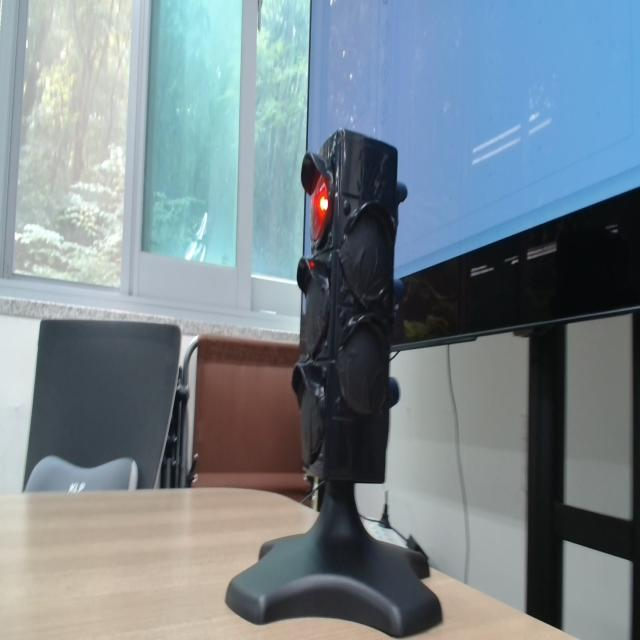red_light: (311, 176, 331, 242)
